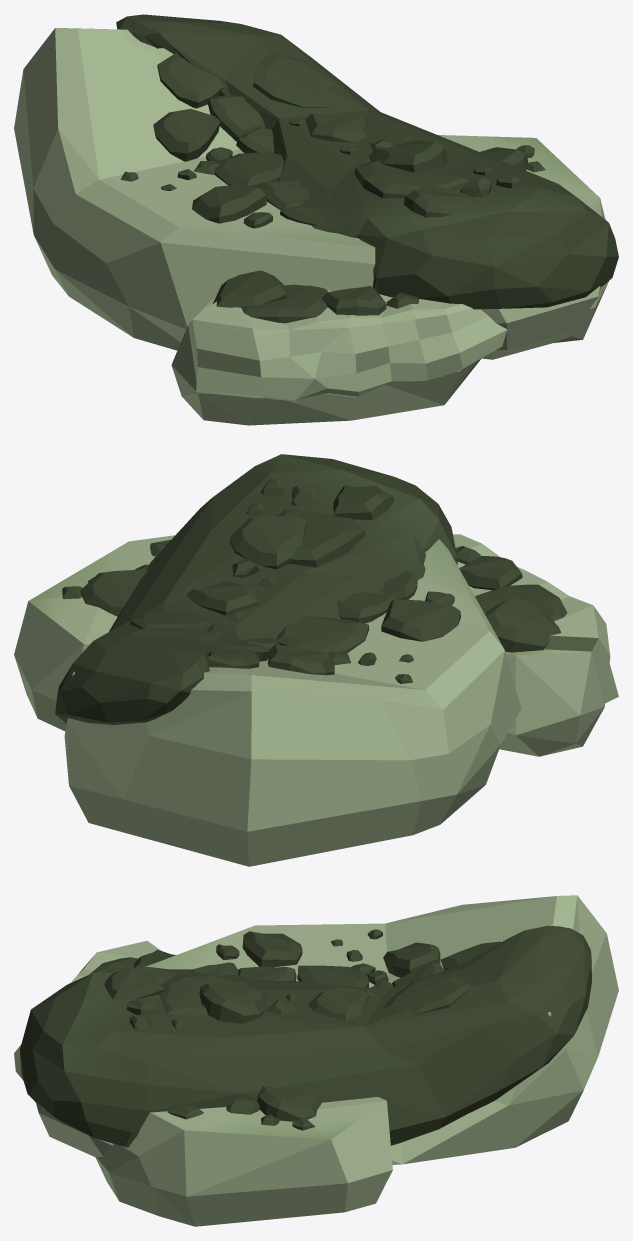
File: EA_Swamp_RockBig_Moss_01a.glb
3 views of the same model, one above another, from view 1: azimuth 30°, elevation 25°; view 2: azimuth 150°, elevation 25°; view 3: azimuth 270°, elevation 25° (orthographic). The views are drawn at different scales.
Visible parts, largest first — view 1: EA_Swamp_RockBig_Moss_01a; view 2: EA_Swamp_RockBig_Moss_01a; view 3: EA_Swamp_RockBig_Moss_01a.
Boxes of the visible parts, x1=… form: EA_Swamp_RockBig_Moss_01a: x1=14, y1=14, x2=618, y2=425; EA_Swamp_RockBig_Moss_01a: x1=14, y1=454, x2=618, y2=866; EA_Swamp_RockBig_Moss_01a: x1=14, y1=895, x2=618, y2=1226.
Size of the model in its own units: 4.57 by 2.03 by 5.71.
1 material, 1 textured.
